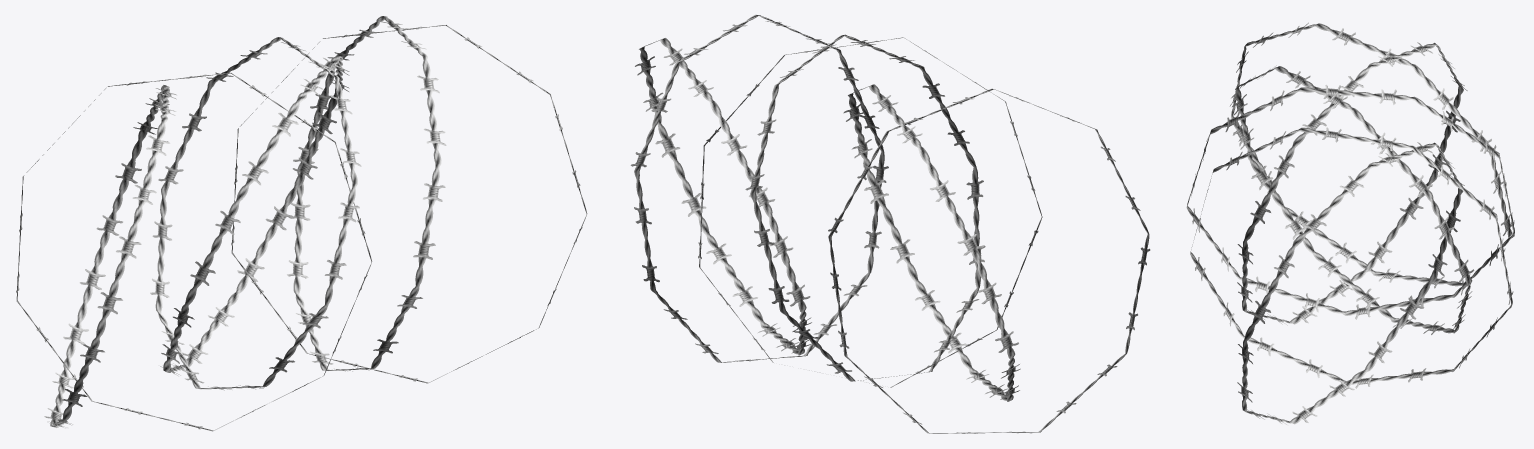
The model's file is des_barbed_wire.fbx.
The picture shows the model from 3 angles, left to right: view 1: azimuth 30°, elevation 25°; view 2: azimuth 150°, elevation 25°; view 3: azimuth 270°, elevation 25°; orthographic projection. The views are drawn at different scales.
Visible parts, largest first — view 1: barbed_wire; view 2: barbed_wire; view 3: barbed_wire.
Part boxes in pixels (x1,y1,x2,y2): barbed_wire: (16,16,587,431); barbed_wire: (630,14,1150,433); barbed_wire: (1186,22,1514,424).
Bounding box in the file's own units: 189 × 115 × 114.
Materials: 1 (1 with a texture image).
